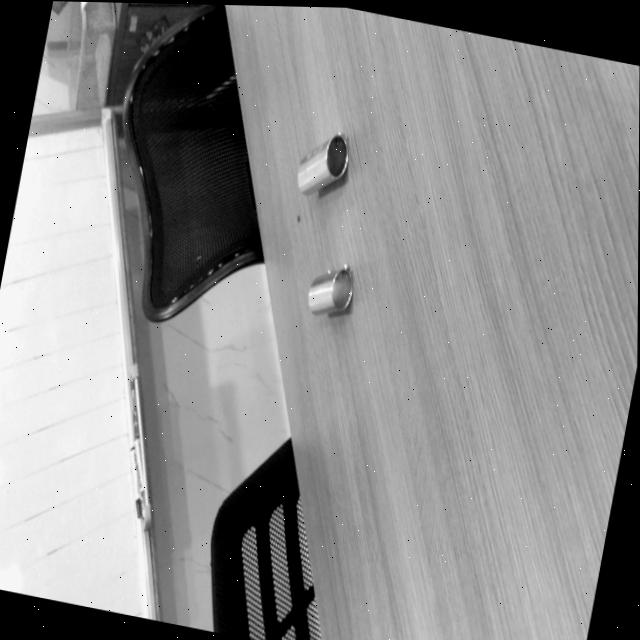Co_Lon: (284, 131, 360, 199)
Co_Nho: (304, 264, 354, 314)
